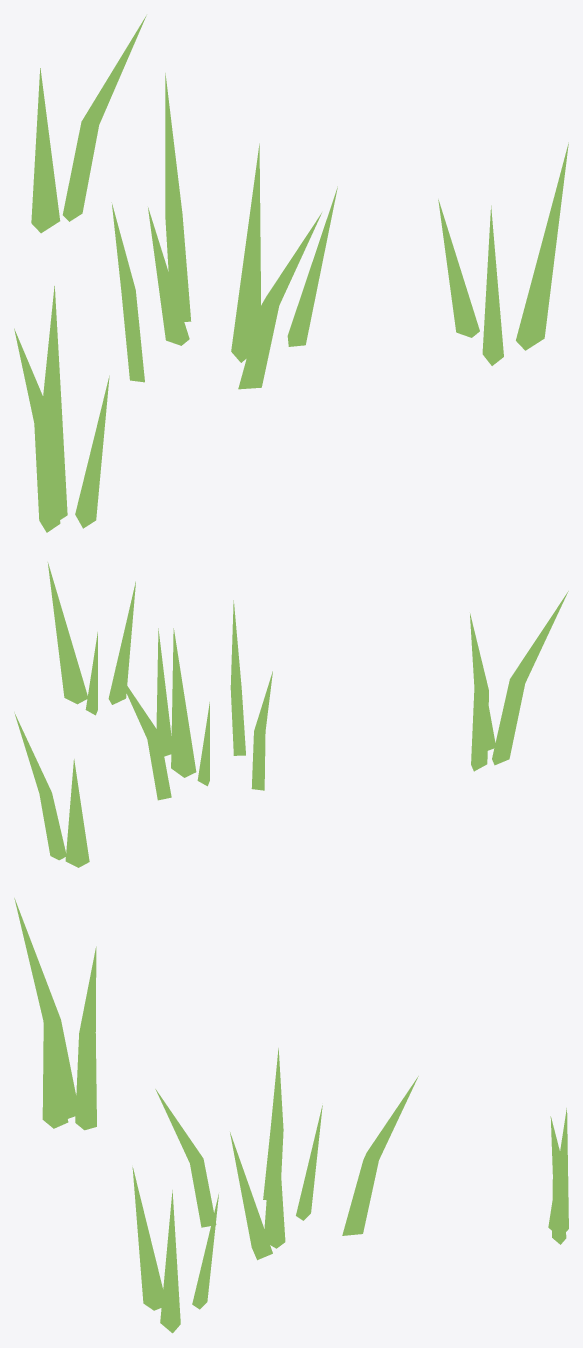
Rendered from Grass3D_a_08.fbx.
3 views of the same model, one above another, from view 1: azimuth 30°, elevation 25°; view 2: azimuth 150°, elevation 25°; view 3: azimuth 270°, elevation 25° (orthographic). The views are drawn at different scales.
Visible parts, largest first — view 1: Grass3D_a_08; view 2: Grass3D_a_08; view 3: Grass3D_a_08.
Boxes of the visible parts, <box> form: Grass3D_a_08: <box>14,15,568,532</box>; Grass3D_a_08: <box>14,562,568,867</box>; Grass3D_a_08: <box>14,898,568,1333</box>.
Bounding box in the file's own units: 1.64 × 0.5877 × 1.5.
